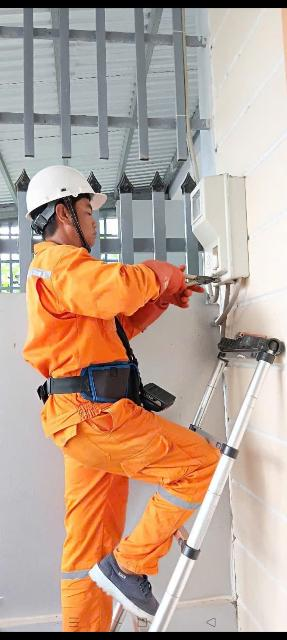gloves: (122, 286, 215, 327), (143, 252, 195, 301)
harness: (46, 352, 170, 412)
helmet: (8, 158, 124, 212)
shoes: (87, 535, 180, 629)
